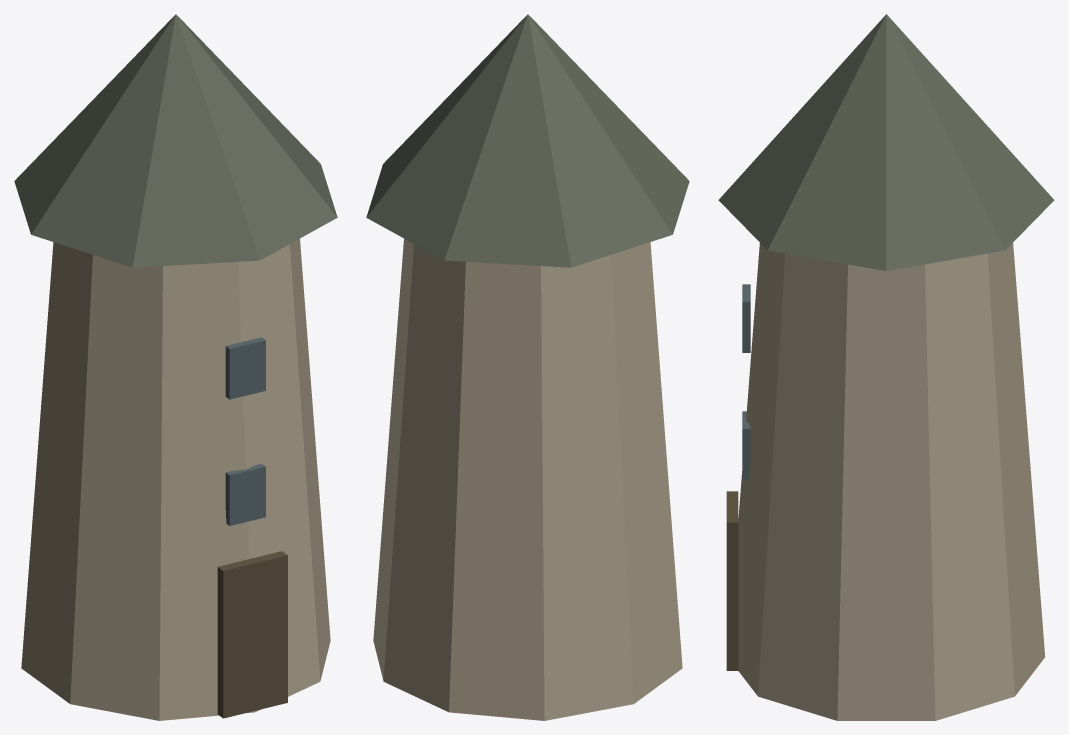
File: mill.glb
The picture shows the model from 3 angles, left to right: view 1: azimuth 30°, elevation 25°; view 2: azimuth 150°, elevation 25°; view 3: azimuth 270°, elevation 25°; orthographic projection.
Visible parts, largest first — view 1: mill; view 2: mill; view 3: mill.
Boxes of the visible parts, bbox=[...] form: mill: bbox=[14, 14, 337, 720]; mill: bbox=[366, 14, 689, 720]; mill: bbox=[718, 14, 1054, 720].
Bounding box in the file's own units: 7.2 × 15.2 × 7.2.
